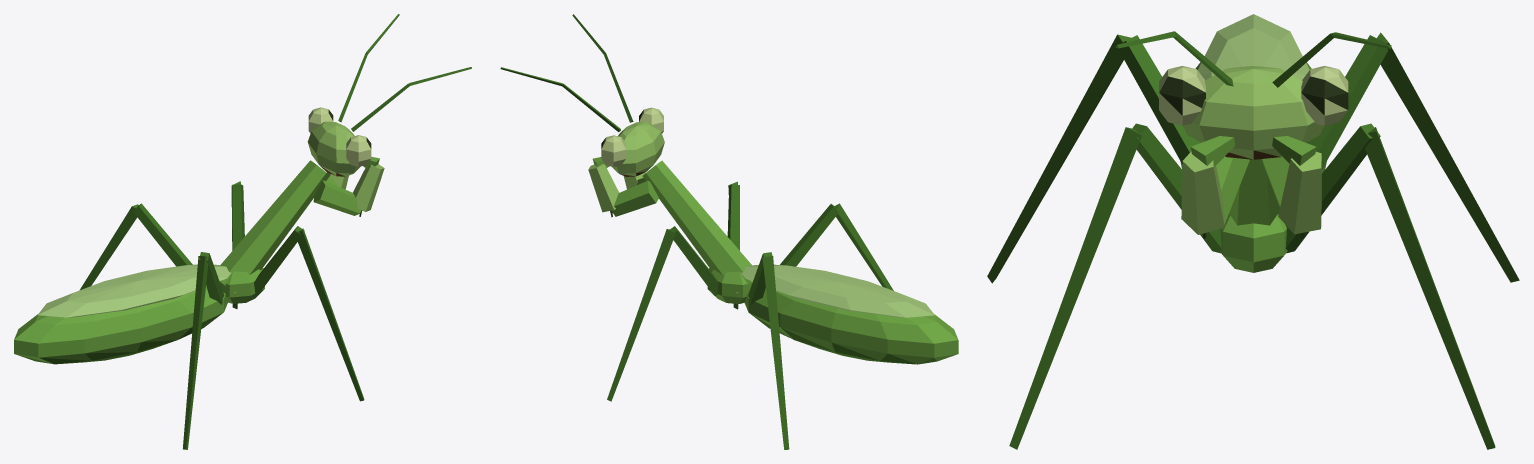
File: bosses-the-praying-mantis-eating.glb
3 renders of one model, left to right at view 1: azimuth 30°, elevation 25°; view 2: azimuth 150°, elevation 25°; view 3: azimuth 270°, elevation 25°, orthographic. The views are drawn at different scales.
Bounding box in the file's own units: 16.12 × 10.28 × 9.36.
